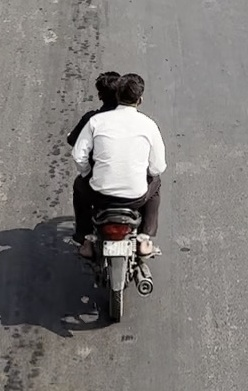BikeWithRider: (60, 66, 175, 329)
NoHelmet: (90, 67, 127, 111), (115, 70, 150, 116)
